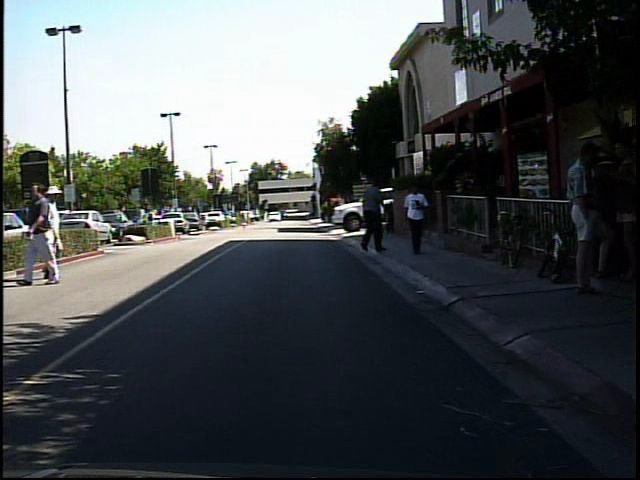person: (562, 134, 609, 299), (601, 139, 635, 281), (20, 179, 61, 290), (32, 183, 78, 280), (351, 174, 392, 255), (399, 177, 436, 259), (145, 202, 161, 238), (236, 204, 252, 229)
